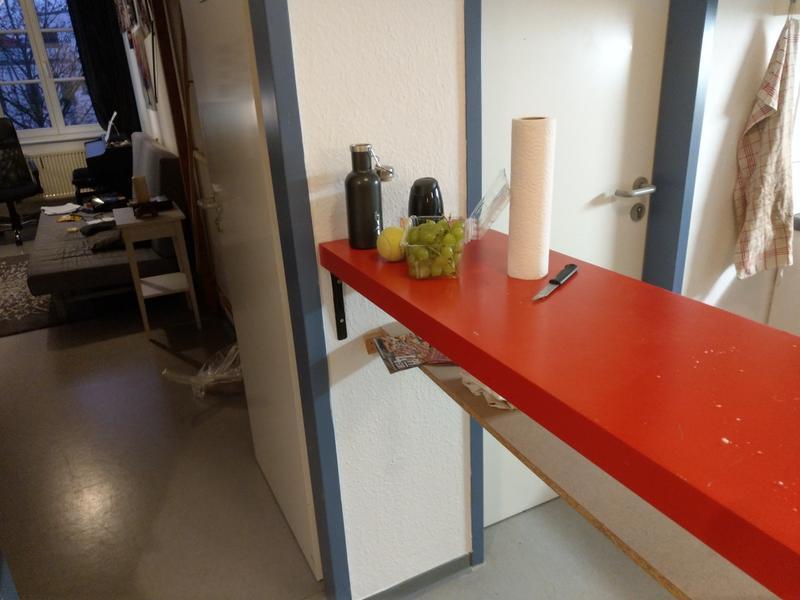Tennisball: (376, 225, 407, 261)
